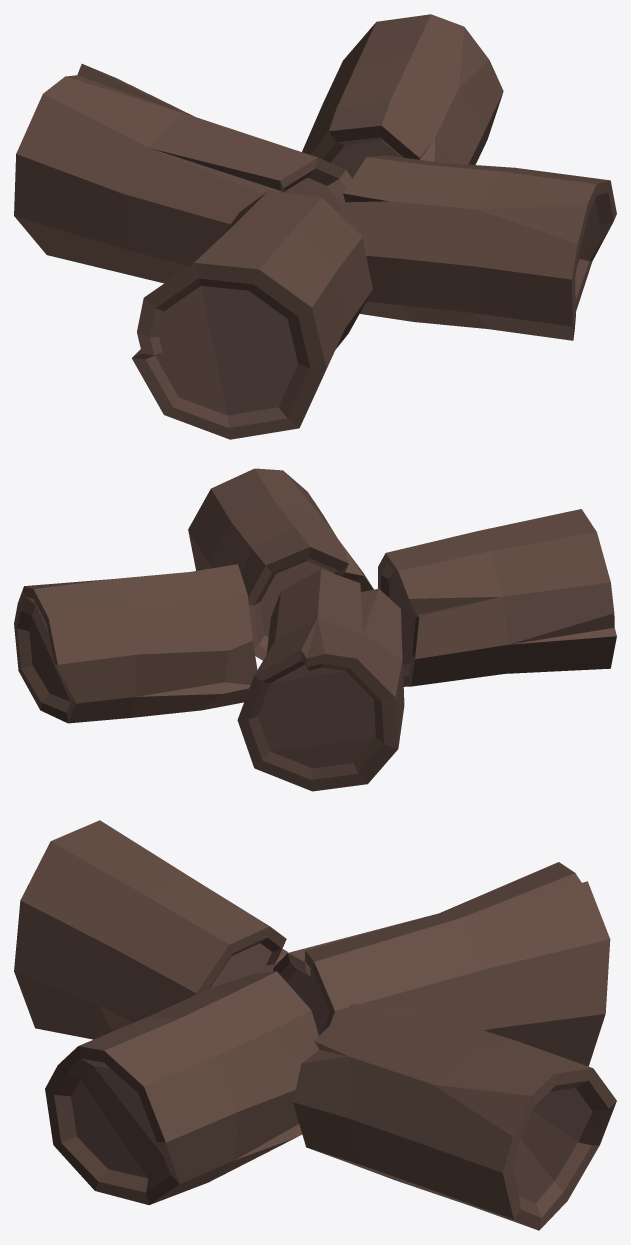
Rendered from quaternius-survival-bonfire.glb.
3 renders of one model, top to bottom at view 1: azimuth 30°, elevation 25°; view 2: azimuth 150°, elevation 25°; view 3: azimuth 270°, elevation 25°, orthographic. The views are drawn at different scales.
Visible parts, largest first — view 1: Bonfire; view 2: Bonfire; view 3: Bonfire.
Part boxes in pixels (bbox=[...]): Bonfire: bbox=[14, 14, 616, 439]; Bonfire: bbox=[14, 468, 616, 791]; Bonfire: bbox=[14, 820, 616, 1230].
Bounding box in the file's own units: 2.18 × 0.6757 × 1.98.
